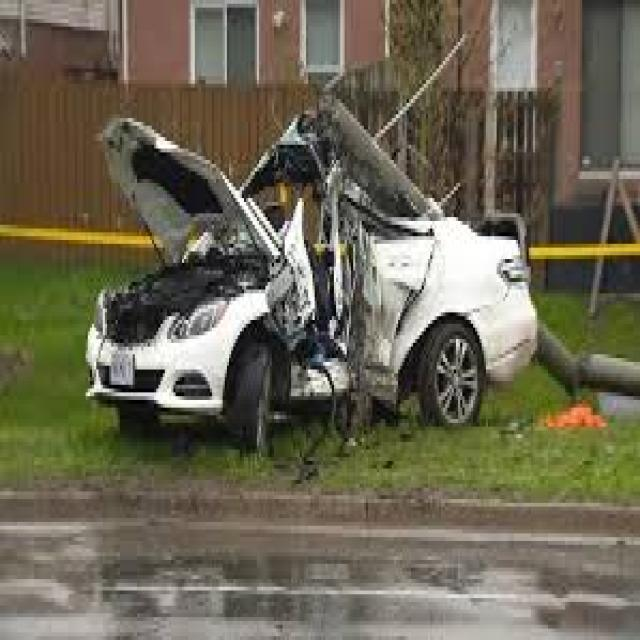Accident: (82, 82, 538, 455)
